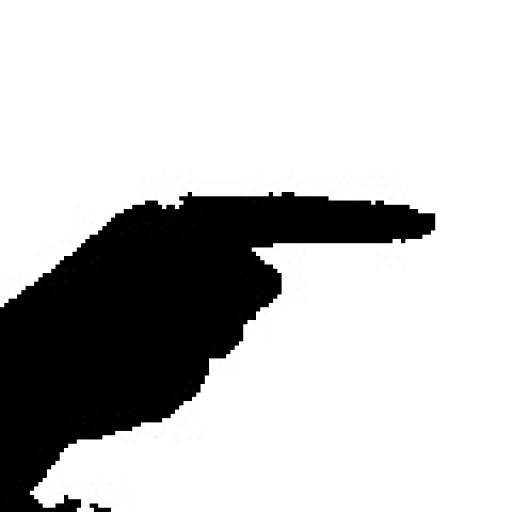index_right: (0, 188, 435, 397)
